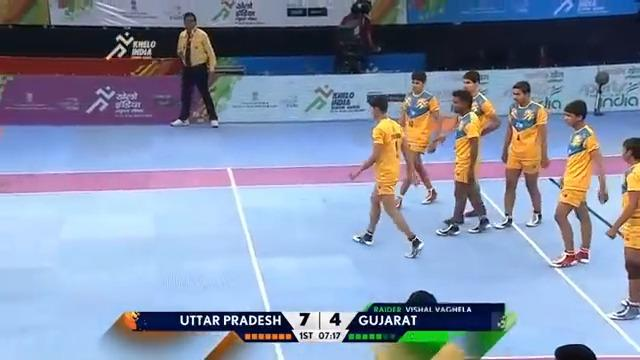Player: (347, 94, 424, 258), (426, 88, 497, 236), (548, 99, 608, 267), (493, 79, 550, 229), (394, 70, 441, 208), (605, 136, 639, 320)
referee: (168, 11, 220, 128), (333, 0, 380, 73)
